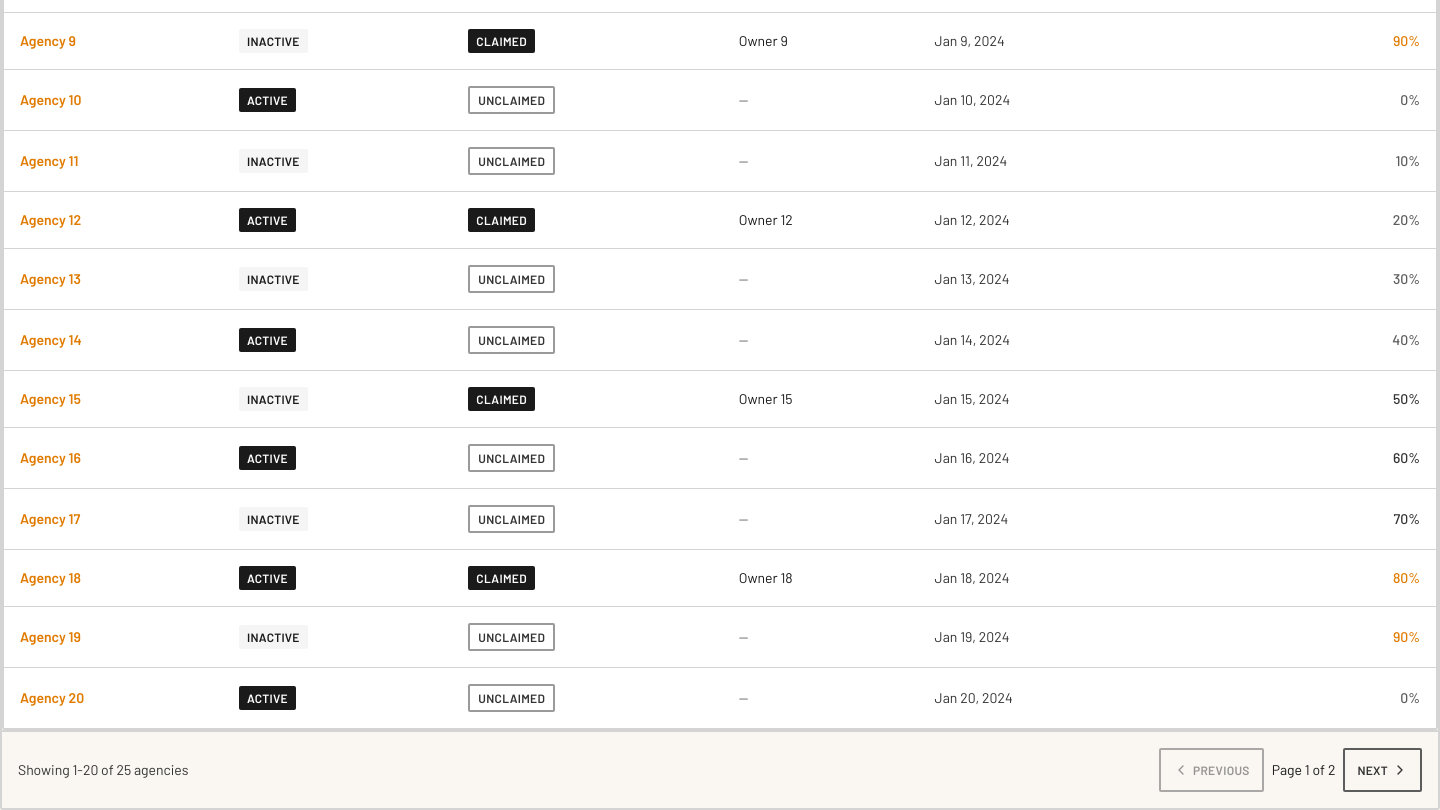
AdminAgenciesTable › Pagination › navigates back to previous page when Previous button is clicked
(page scrolled)
Go to page 2
What coordinates should you click on to do the following:
click the button with test id "pagination-next"
I would click on:
 (1383, 770)
Its box is [1343, 748, 1422, 792].
(page scrolled)
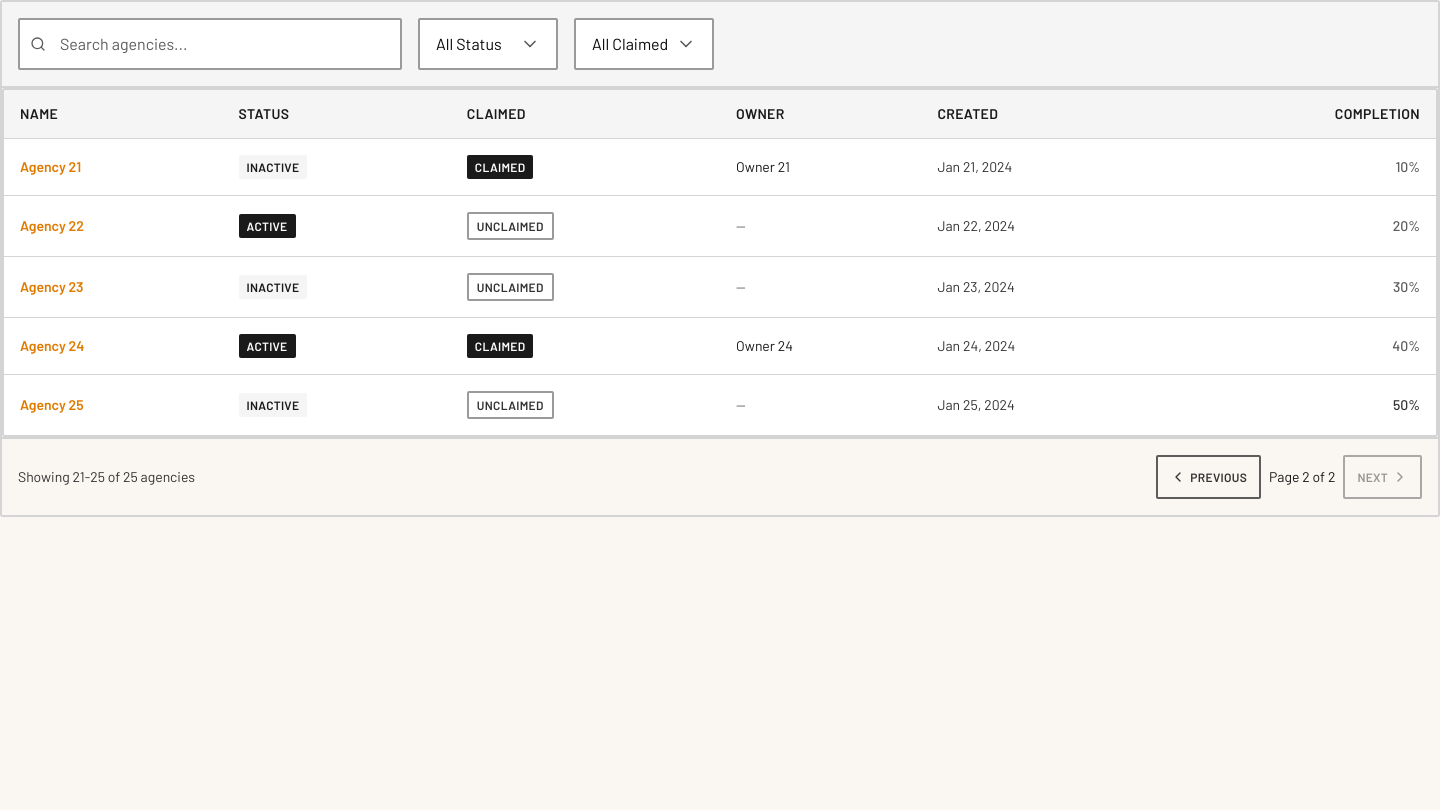
Expected: the text with test id "pagination-info" reads "Page 2 of 2", [1269, 466, 1335, 486]
Go back to page 1
What coordinates should you click on to do the following:
click the button with test id "pagination-previous"
I would click on:
 (1209, 476)
Its box is [1156, 454, 1261, 498].
(page scrolled)
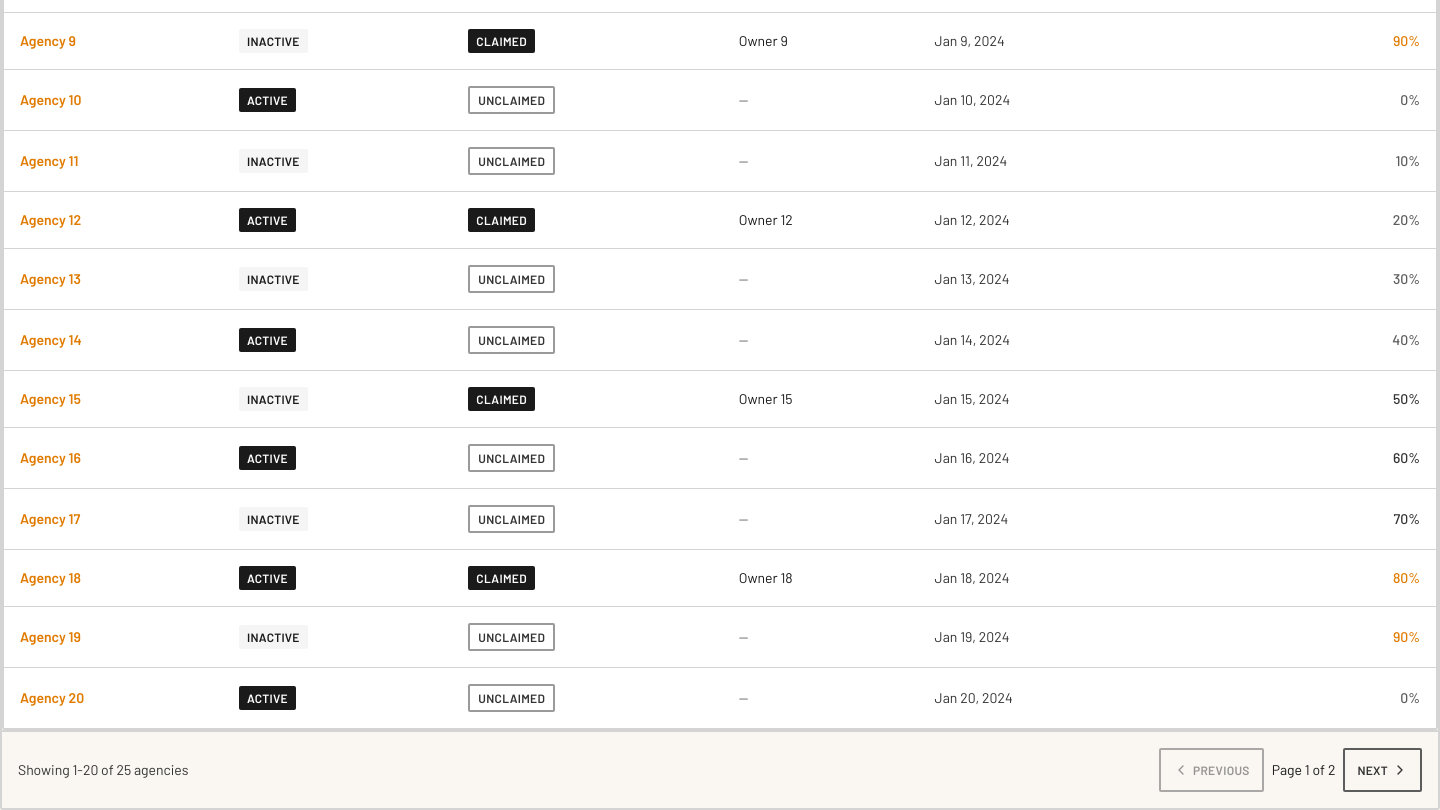
Expected: the text with test id "pagination-info" reads "Page 1 of 2", [1272, 760, 1335, 780]
